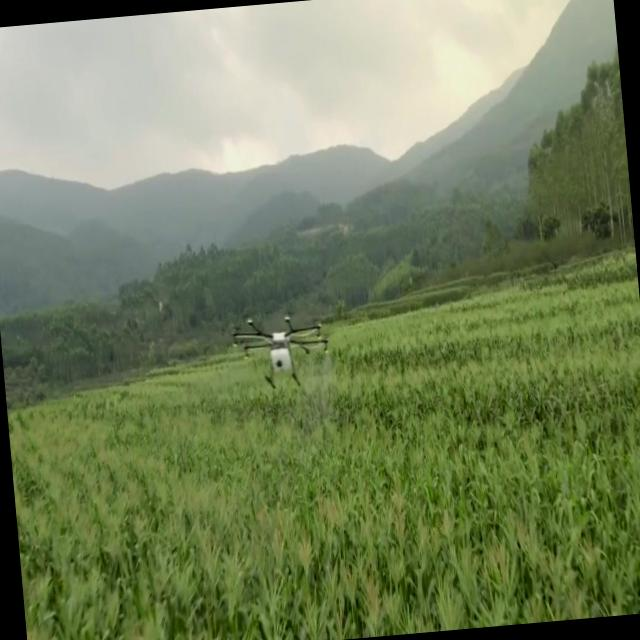drone: (229, 310, 333, 400)
